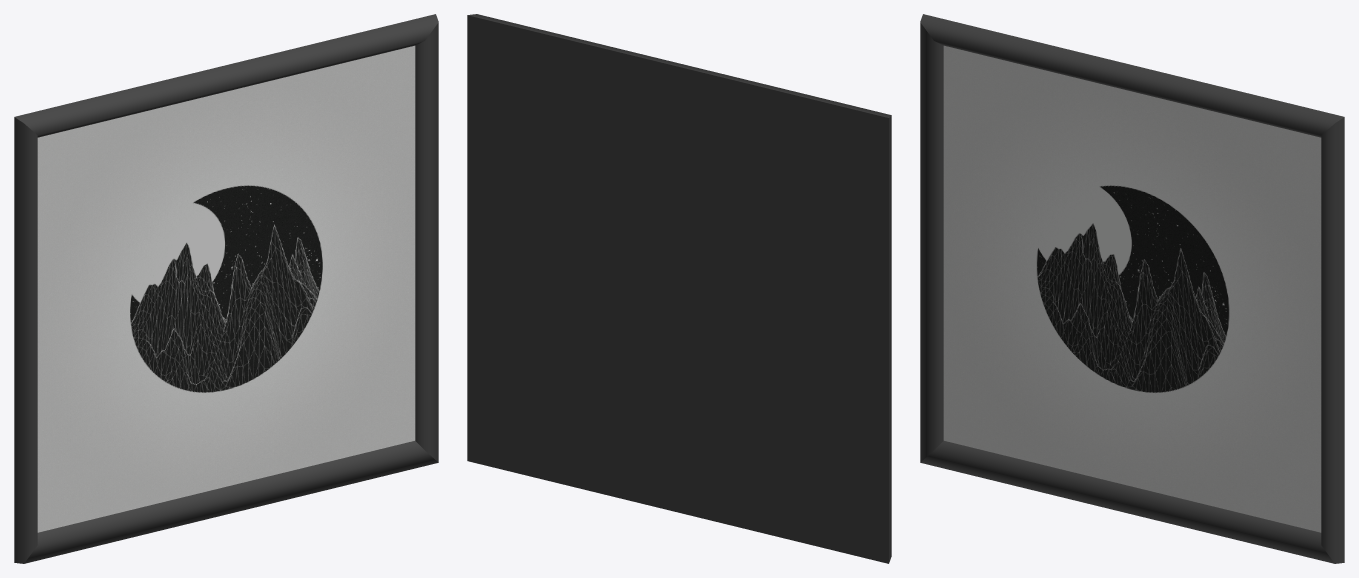
The model's file is picture_011.fbx.
The picture shows the model from 3 angles, left to right: view 1: azimuth 30°, elevation 25°; view 2: azimuth 150°, elevation 25°; view 3: azimuth 330°, elevation 25°; orthographic projection.
Visible parts, largest first — view 1: picture_011; view 2: picture_011; view 3: picture_011.
Part boxes in pixels (left/top/right/bottom): picture_011: left=14, top=14, right=438, bottom=563; picture_011: left=467, top=14, right=891, bottom=563; picture_011: left=920, top=14, right=1344, bottom=563.
Size of the model in its own units: 70.35 by 1.82 by 71.06.
